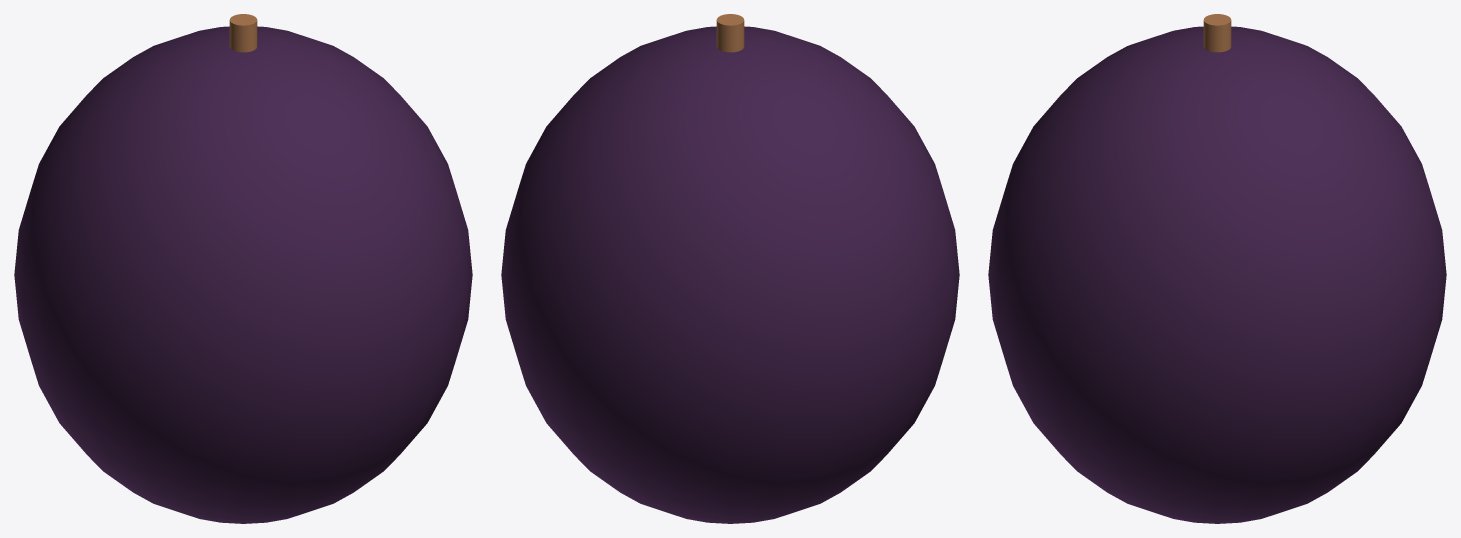
Rendered from wp-prune.glb.
The picture shows the model from 3 angles, left to right: view 1: azimuth 30°, elevation 25°; view 2: azimuth 150°, elevation 25°; view 3: azimuth 270°, elevation 25°; orthographic projection.
Parts seen in each view (by area): view 1: wp-prune; view 2: wp-prune; view 3: wp-prune.
Boxes of the visible parts, x1,y1,x2,y2 form: wp-prune: [14, 14, 472, 523]; wp-prune: [501, 14, 959, 523]; wp-prune: [988, 14, 1446, 523].
Size of the model in its own units: 0.06 by 0.07 by 0.06.
